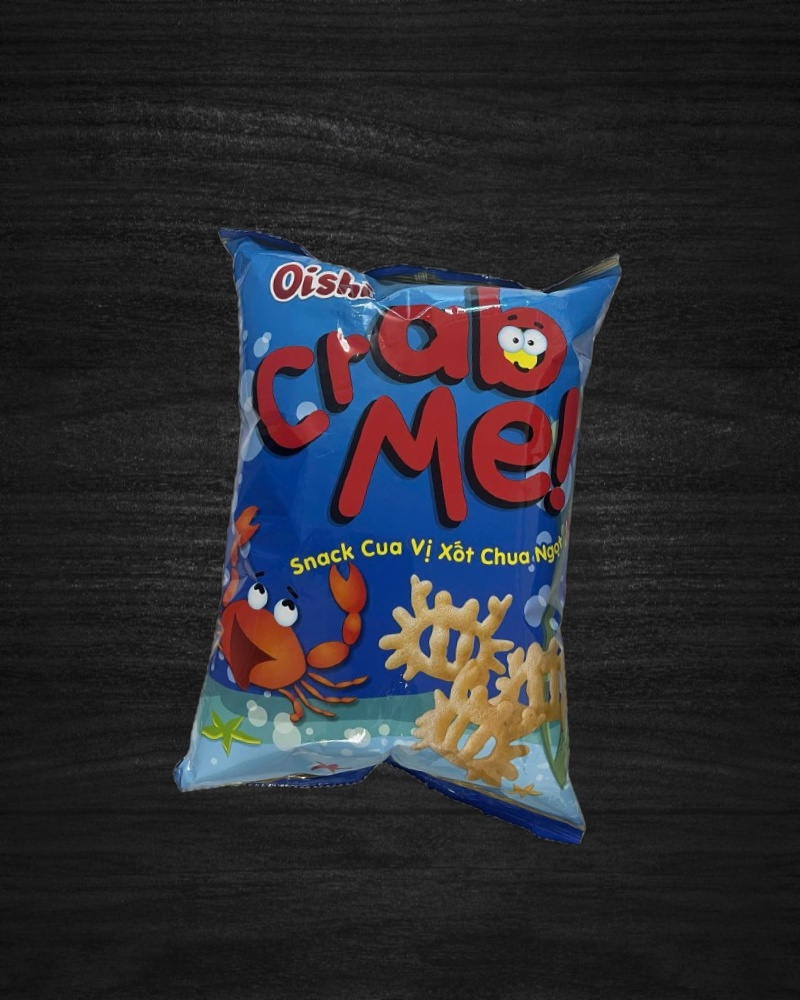Snack chay: (168, 219, 636, 848)
